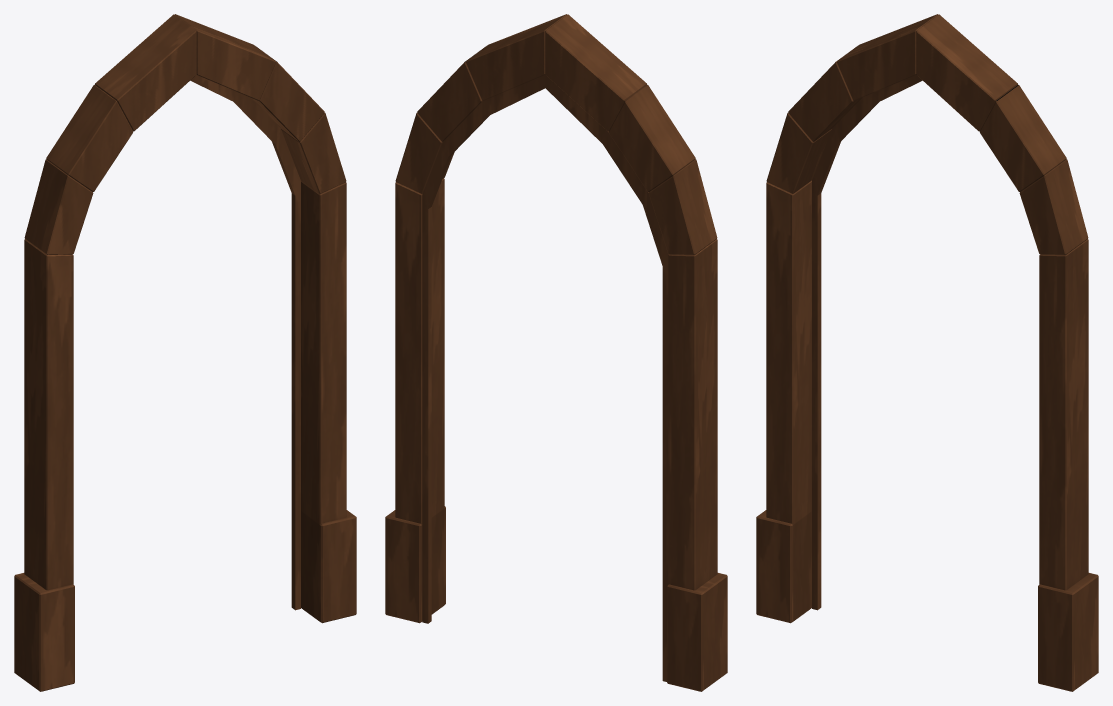
The model's file is door_arch_heavy_frame_01.glb.
3 views of the same model, side by side, from view 1: azimuth 30°, elevation 25°; view 2: azimuth 150°, elevation 25°; view 3: azimuth 330°, elevation 25° (orthographic).
Visible parts, largest first — view 1: door_arch_heavy_frame_01; view 2: door_arch_heavy_frame_01; view 3: door_arch_heavy_frame_01.
Boxes of the visible parts, <box> form: door_arch_heavy_frame_01: <box>14,14,356,691</box>; door_arch_heavy_frame_01: <box>385,14,727,691</box>; door_arch_heavy_frame_01: <box>756,14,1098,691</box>.
Bounding box in the file's own units: 1.11 × 2.08 × 0.16.
Materials: 1 (1 with a texture image).
